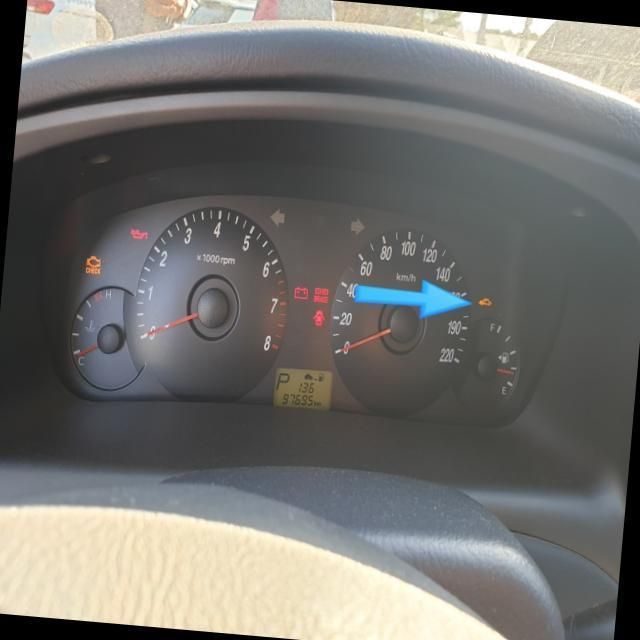Doors: (312, 307, 326, 326)
